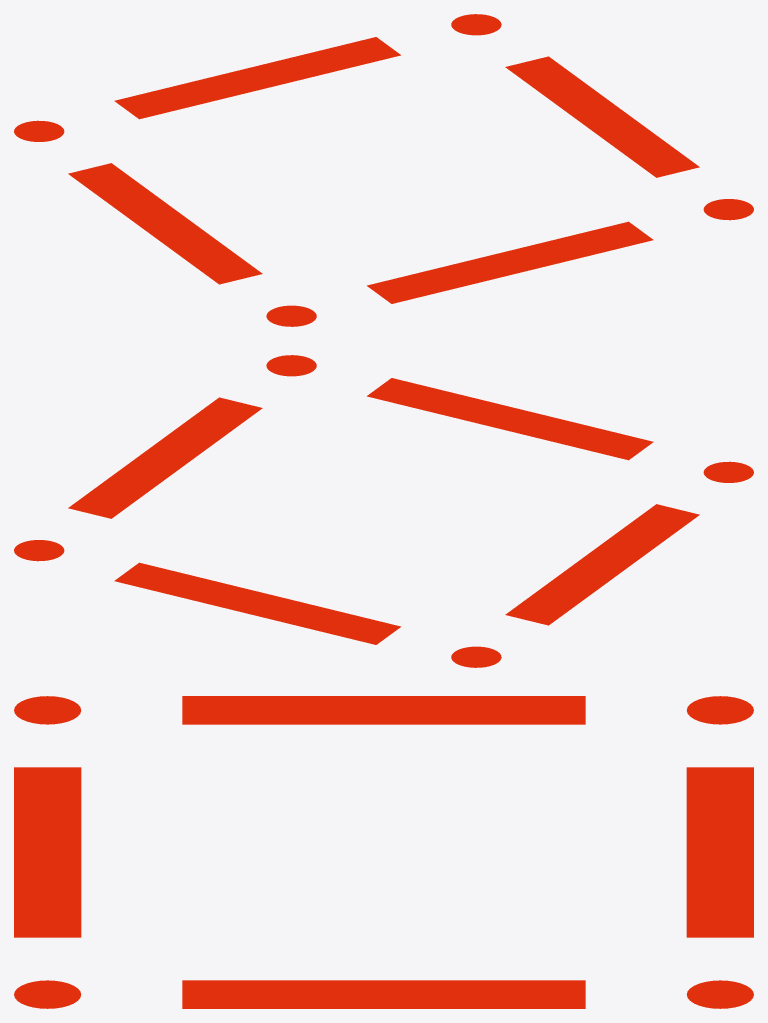
Rendered from dash-dot.FBX.
3 views of the same model, one above another, from view 1: azimuth 30°, elevation 25°; view 2: azimuth 150°, elevation 25°; view 3: azimuth 270°, elevation 25° (orthographic). The views are drawn at different scales.
Parts seen in each view (by area): view 1: Shape1; view 2: Shape1; view 3: Shape1.
Boxes of the visible parts, <box> form: Shape1: <box>14,14,753,326</box>; Shape1: <box>14,355,753,667</box>; Shape1: <box>14,696,753,1008</box>.
Size of the model in its own units: 1.1 by 6.73e-17 by 1.1.
